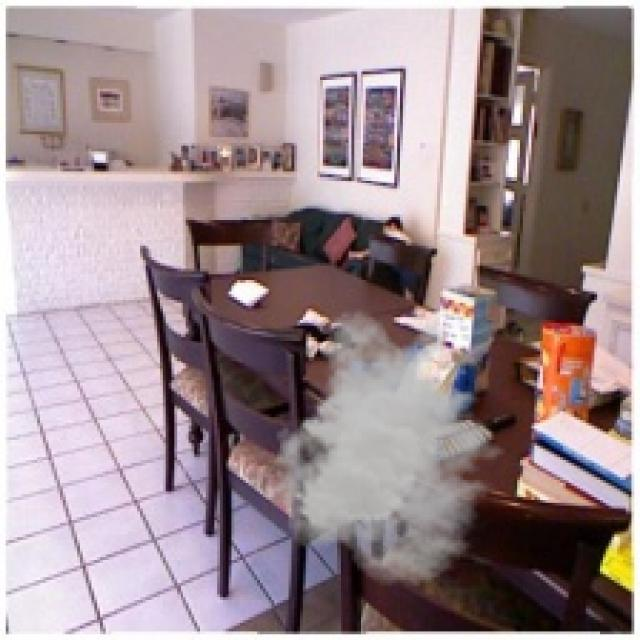smoke: (266, 308, 517, 586)
